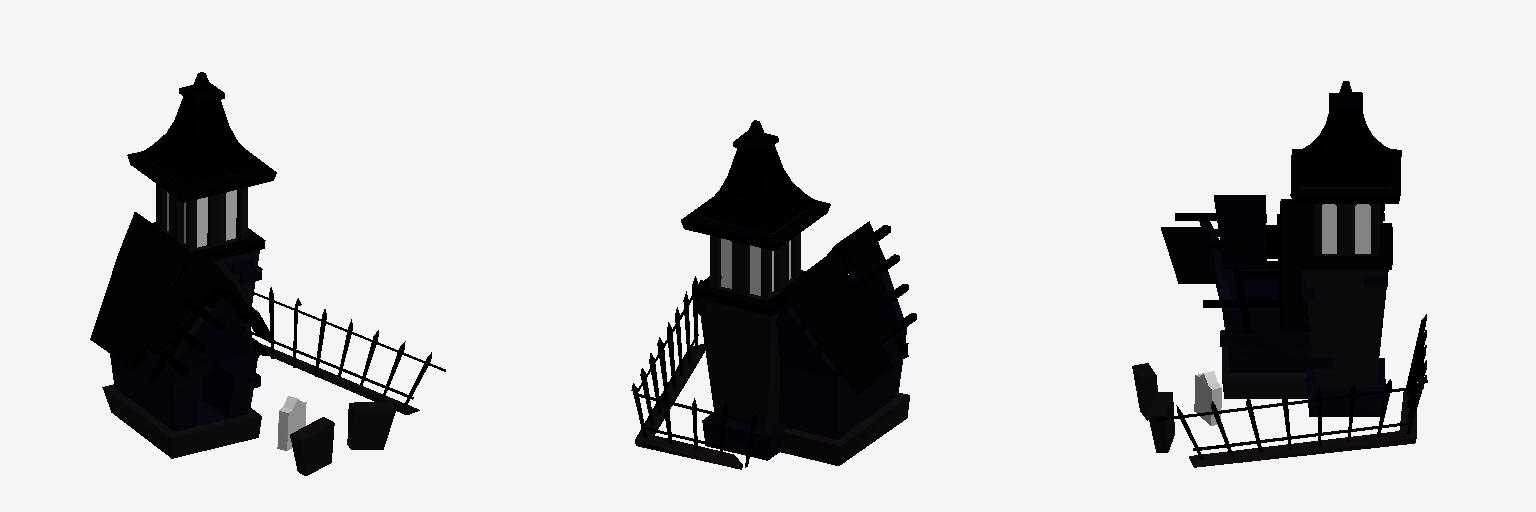
The model's file is SpookyHouseLow.obj.
3 views of the same model, side by side, from view 1: azimuth 30°, elevation 25°; view 2: azimuth 150°, elevation 25°; view 3: azimuth 270°, elevation 25° (orthographic).
Visible parts, largest first — view 1: Plane.054, Plane.060, Plane.061, Plane.046, Plane.052, Plane.043, Plane.042, Plane.056, Plane.058, Plane.044, Plane.048, Plane.057 (+2 smaller); view 2: Plane.060, Plane.054, Plane.061, Plane.043, Plane.046, Plane.042, Plane.044, Plane.045, Plane.052, Plane.047, Plane.048, Plane.059; view 3: Plane.060, Plane.054, Plane.061, Plane.043, Plane.044, Plane.052, Plane.042, Plane.046, Plane.047, Plane.045, Plane.048, Plane.056 (+3 smaller).
Part boxes in pixels (left/top/right/bottom): Plane.054: left=90, top=212, right=275, bottom=365; Plane.060: left=141, top=96, right=263, bottom=358; Plane.061: left=110, top=297, right=258, bottom=431; Plane.046: left=102, top=384, right=261, bottom=458; Plane.052: left=129, top=260, right=268, bottom=383; Plane.043: left=248, top=287, right=445, bottom=406; Plane.042: left=127, top=150, right=276, bottom=202; Plane.056: left=347, top=402, right=395, bottom=449; Plane.058: left=290, top=417, right=334, bottom=475; Plane.044: left=262, top=344, right=419, bottom=414; Plane.048: left=167, top=190, right=236, bottom=247; Plane.057: left=277, top=396, right=306, bottom=450; Plane.060: left=694, top=145, right=816, bottom=430; Plane.054: left=774, top=221, right=900, bottom=394; Plane.061: left=776, top=242, right=906, bottom=439; Plane.043: left=631, top=276, right=757, bottom=467; Plane.046: left=780, top=393, right=909, bottom=465; Plane.042: left=681, top=197, right=830, bottom=250; Plane.044: left=635, top=344, right=742, bottom=469; Plane.045: left=702, top=414, right=786, bottom=460; Plane.052: left=776, top=225, right=916, bottom=377; Plane.047: left=692, top=270, right=805, bottom=316; Plane.048: left=721, top=238, right=790, bottom=295; Plane.059: left=733, top=120, right=778, bottom=153; Plane.060: left=1300, top=112, right=1391, bottom=386; Plane.054: left=1161, top=195, right=1384, bottom=331; Plane.061: left=1199, top=221, right=1382, bottom=372; Plane.043: left=1156, top=314, right=1427, bottom=459; Plane.044: left=1189, top=391, right=1416, bottom=467; Plane.052: left=1175, top=213, right=1384, bottom=333; Plane.042: left=1290, top=149, right=1401, bottom=203; Plane.046: left=1222, top=347, right=1307, bottom=398; Plane.047: left=1300, top=223, right=1392, bottom=269; Plane.045: left=1307, top=358, right=1385, bottom=416; Plane.048: left=1322, top=204, right=1370, bottom=253; Plane.056: left=1148, top=392, right=1174, bottom=452.
Size of the model in its own units: 7.1 by 8.67 by 7.07.